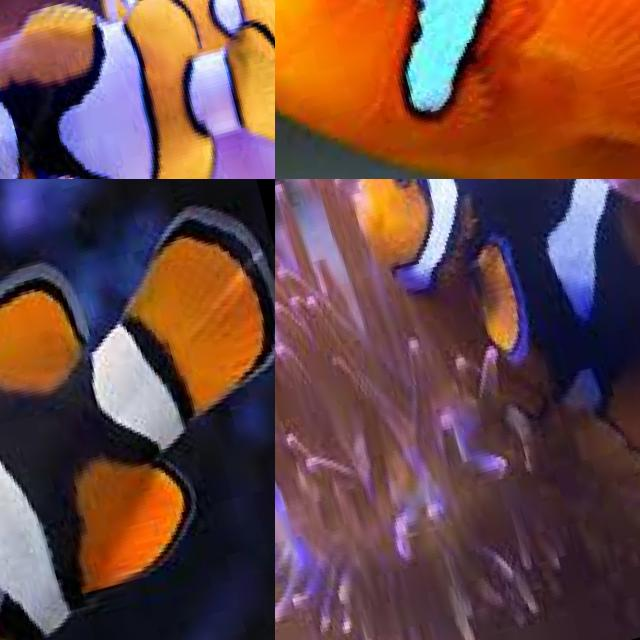Amphiprion-percula: (0, 179, 275, 640), (318, 179, 640, 553), (275, 0, 640, 179), (0, 0, 275, 179), (37, 0, 275, 142)
